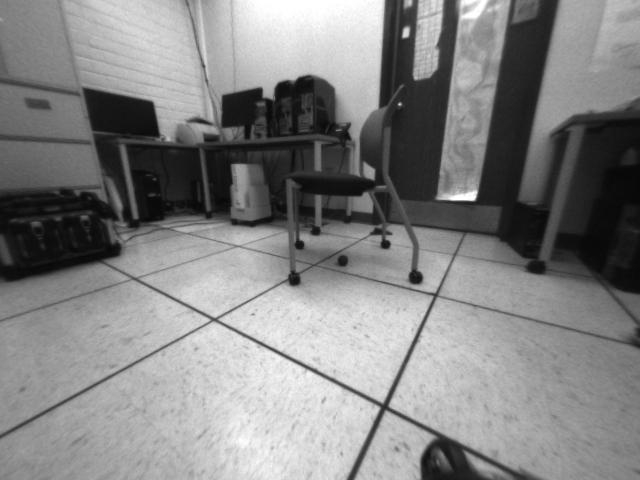dogtoy: (331, 248, 357, 270)
